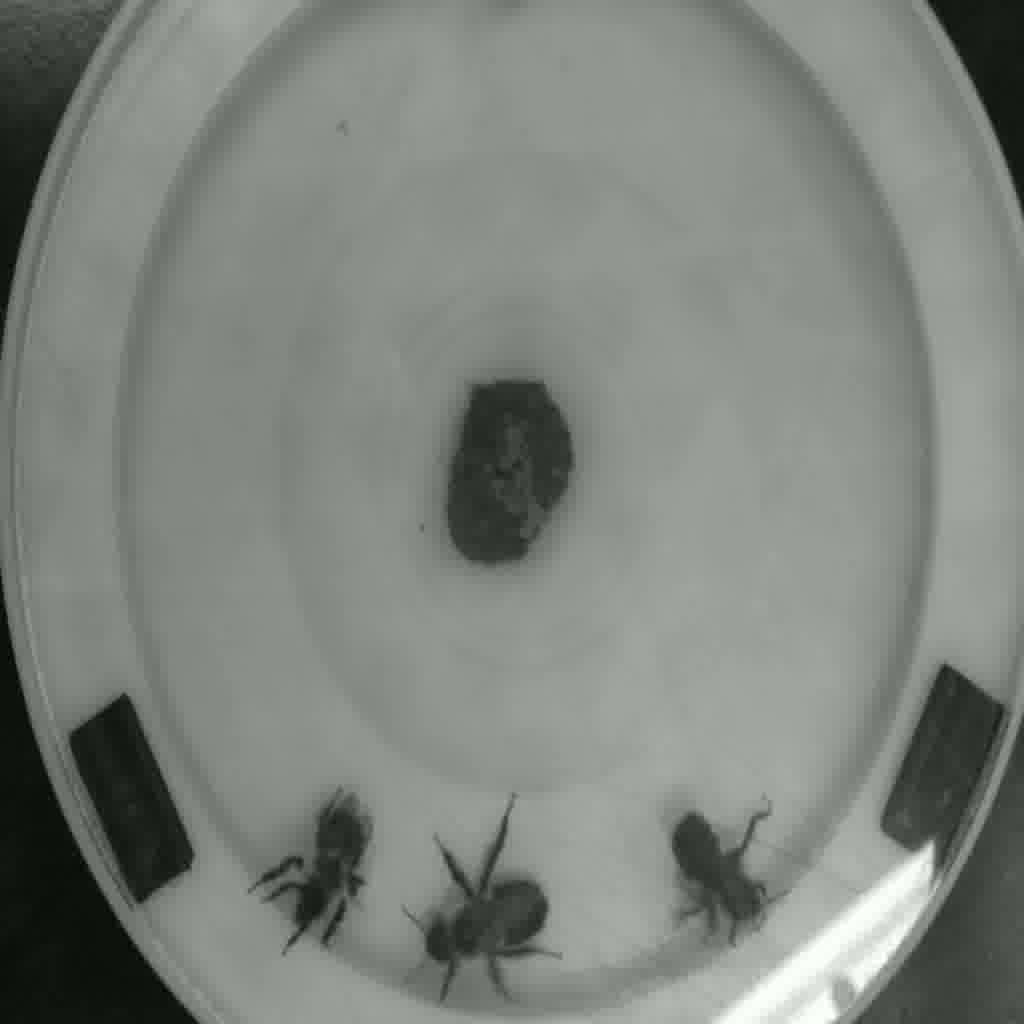bee: (643, 802, 793, 938), (423, 876, 561, 985), (281, 805, 383, 927)
